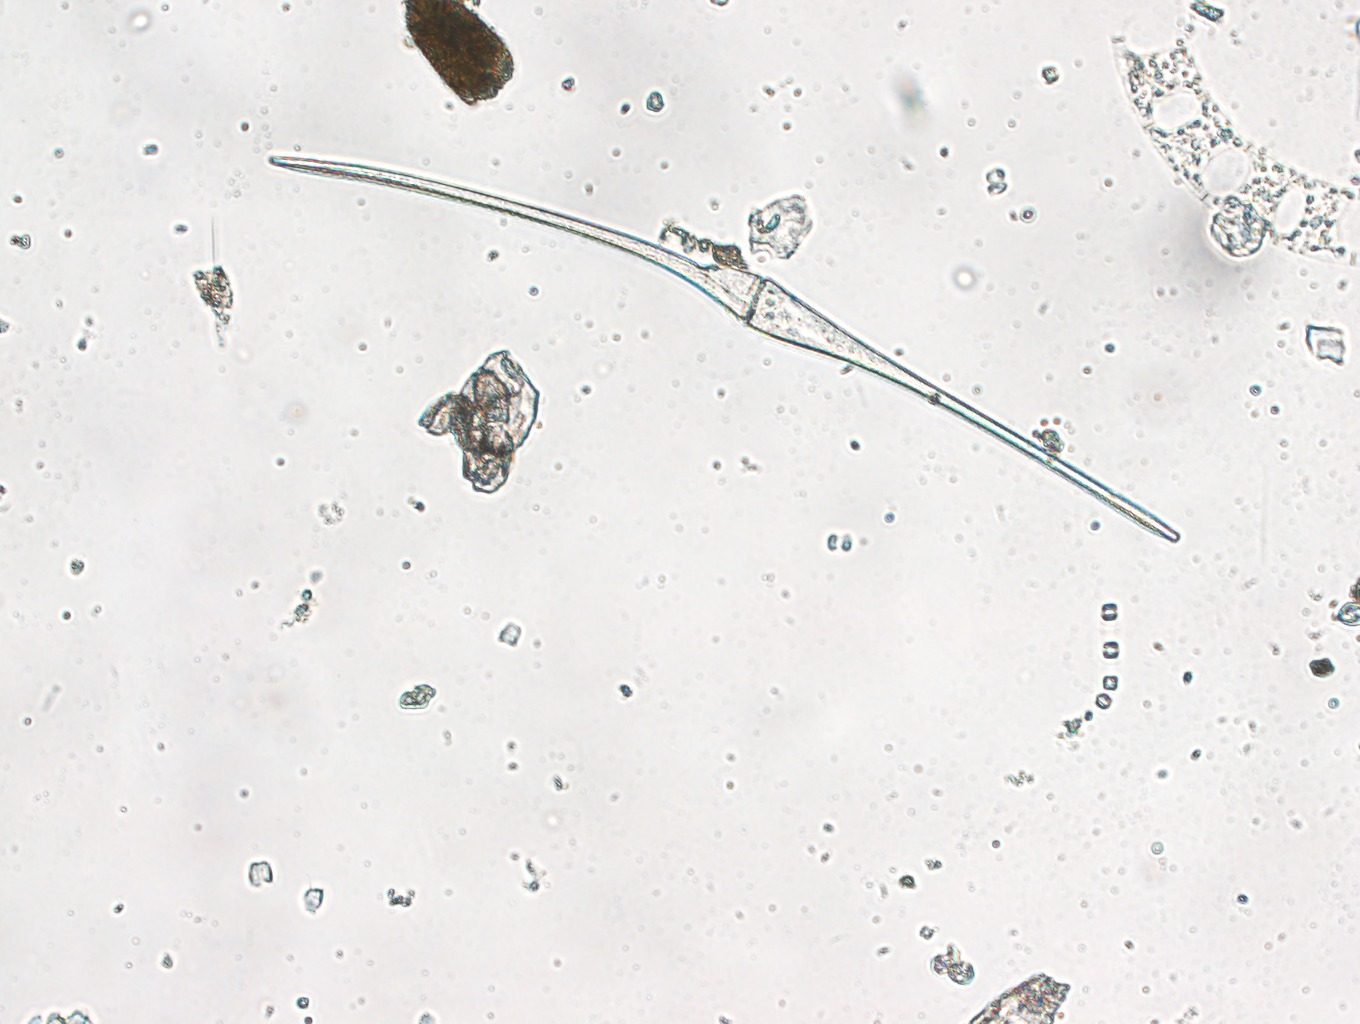ceratium fusus: (267, 155, 1184, 547)
eucampia: (1110, 28, 1360, 259)
